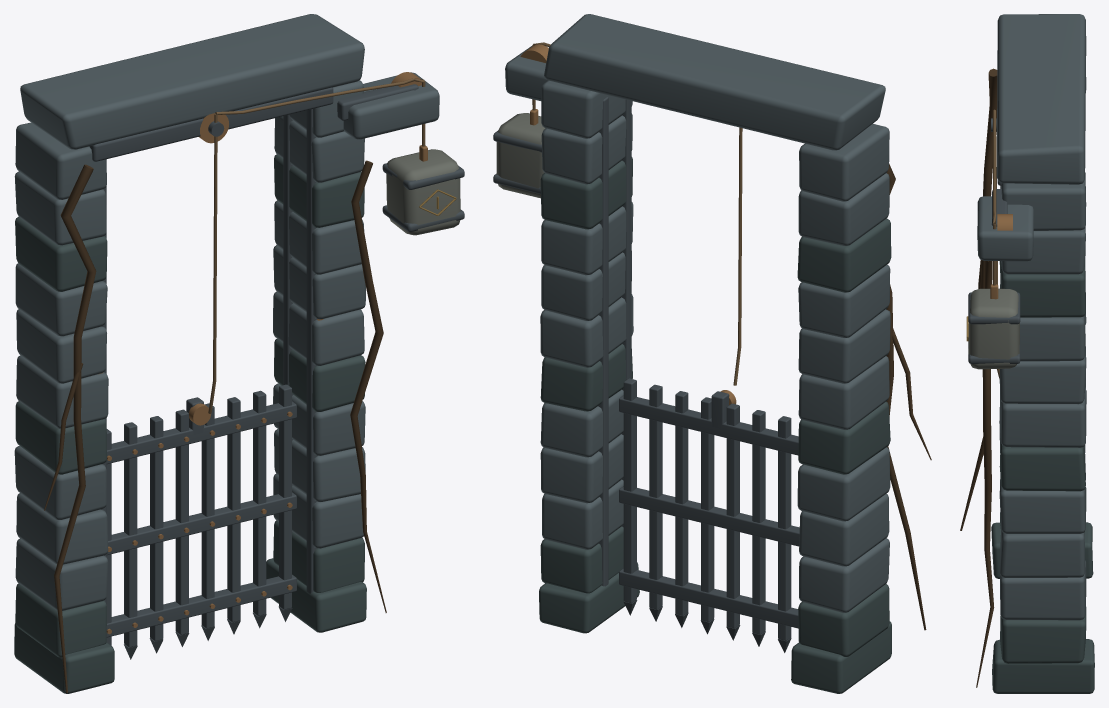
The model's file is rootlet_canal_gate.glb.
3 views of the same model, side by side, from view 1: azimuth 30°, elevation 25°; view 2: azimuth 150°, elevation 25°; view 3: azimuth 270°, elevation 25° (orthographic). The views are drawn at different scales.
Parts seen in each view (by area): view 1: Heavy stone lintel, Marked river stone counterweight, Canal ashlar left 11, Pillar root left, Canal ashlar left 2, Canal ashlar left 1, Canal ashlar left 3, Canal ashlar left 7, Canal ashlar left 9, Canal ashlar left 4, Canal ashlar left 10, Canal ashlar left 6 (+34 smaller); view 2: Heavy stone lintel, Canal ashlar left 11, Canal ashlar left 4, Canal ashlar left 9, Canal ashlar left 7, Canal ashlar left 6, Canal ashlar left 10, Canal ashlar left 2, Canal ashlar left 8, Canal ashlar left 5, Canal ashlar left 3, Canal ashlar left 1 (+29 smaller); view 3: Heavy stone lintel, Canal ashlar right 6, Canal ashlar right 1, Canal ashlar right 5, Canal ashlar right 3, Canal ashlar right 4, Canal ashlar right 2, External footing right, Canal ashlar right 7, Marked river stone counterweight, Canal ashlar right 9, Canal ashlar right 11 (+11 smaller).
Part boxes in pixels (left/top/right/bottom): Heavy stone lintel: left=20, top=14, right=364, bottom=149; Marked river stone counterweight: left=386, top=149, right=460, bottom=235; Canal ashlar left 11: left=15, top=122, right=106, bottom=199; Pillar root left: left=54, top=164, right=96, bottom=692; Canal ashlar left 2: left=15, top=538, right=108, bottom=610; Canal ashlar left 1: left=15, top=583, right=106, bottom=657; Canal ashlar left 3: left=16, top=493, right=108, bottom=564; Canal ashlar left 7: left=16, top=309, right=106, bottom=383; Canal ashlar left 9: left=15, top=216, right=107, bottom=291; Canal ashlar left 4: left=14, top=446, right=106, bottom=519; Canal ashlar left 10: left=14, top=171, right=106, bottom=245; Canal ashlar left 6: left=16, top=355, right=108, bottom=428; Heavy stone lintel: left=544, top=14, right=885, bottom=150; Canal ashlar left 11: left=799, top=124, right=889, bottom=201; Canal ashlar left 4: left=797, top=447, right=890, bottom=521; Canal ashlar left 9: left=797, top=218, right=891, bottom=292; Canal ashlar left 7: left=798, top=309, right=890, bottom=383; Canal ashlar left 6: left=798, top=356, right=889, bottom=429; Canal ashlar left 10: left=798, top=173, right=889, bottom=245; Canal ashlar left 2: left=799, top=538, right=889, bottom=612; Canal ashlar left 8: left=798, top=264, right=890, bottom=337; Canal ashlar left 5: left=798, top=401, right=890, bottom=474; Canal ashlar left 3: left=799, top=494, right=889, bottom=566; Canal ashlar left 1: left=798, top=584, right=889, bottom=656; Heavy stone lintel: left=996, top=14, right=1086, bottom=184; Canal ashlar right 6: left=999, top=388, right=1086, bottom=447; Canal ashlar right 1: left=1000, top=606, right=1086, bottom=663; Canal ashlar right 5: left=999, top=443, right=1085, bottom=491; Canal ashlar right 3: left=999, top=529, right=1085, bottom=577; Canal ashlar right 4: left=999, top=477, right=1085, bottom=533; Canal ashlar right 2: left=1000, top=560, right=1086, bottom=620; External footing right: left=992, top=639, right=1094, bottom=693; Canal ashlar right 7: left=999, top=346, right=1086, bottom=404; Marked river stone counterweight: left=968, top=288, right=1019, bottom=369; Canal ashlar right 9: left=1000, top=260, right=1085, bottom=317; Canal ashlar right 11: left=1001, top=172, right=1085, bottom=230.
Size of the model in its own units: 3.51 by 4.64 by 1.04.
